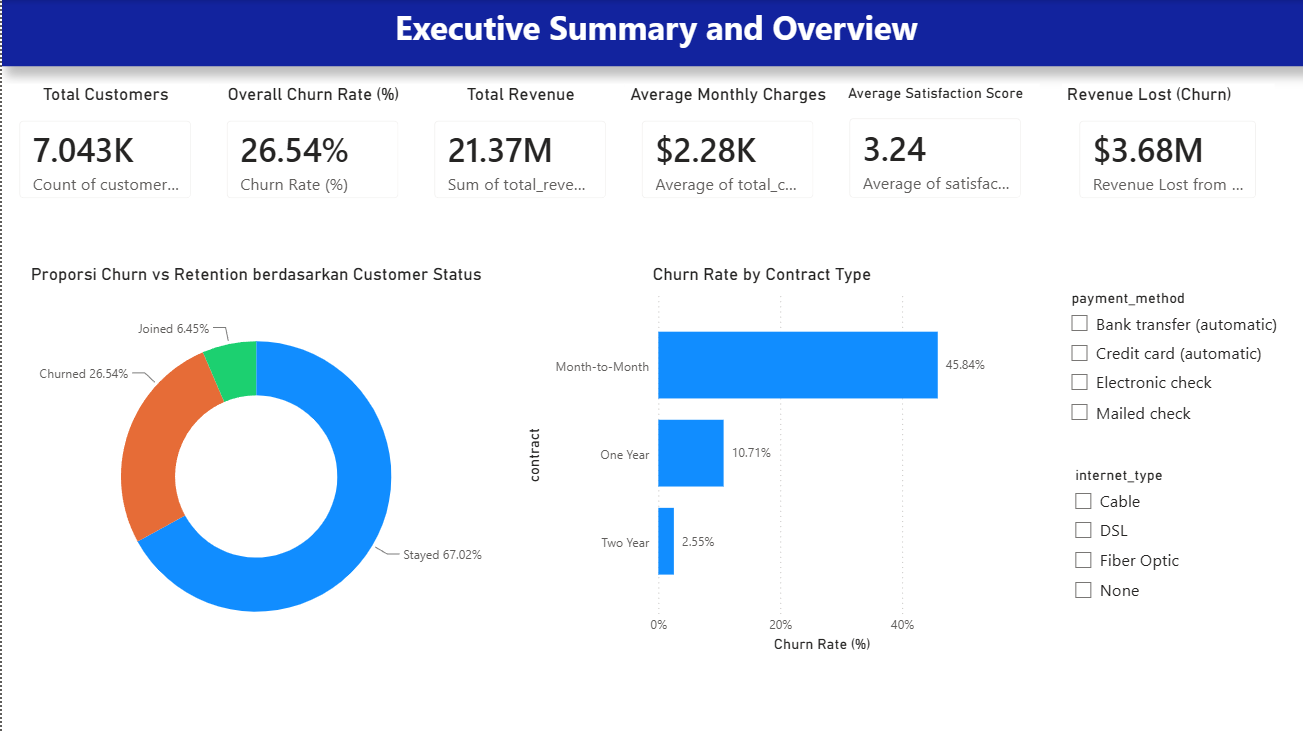

Layout of this report page (visuals, bound fields, positions):
{"tool":"powerbi","page":{"name":"Executive Summary and Overview","canvas":[1280,720],"ordinal":0},"visuals":[{"type":"textbox","box":[0,0,1280.3,64.5],"z":0},{"type":"cardVisual","title":"Total Customers","fields":{"Data":["Count(telco_churn_cleaned_master.customer_id)"]},"box":[0,81.9,203,129.6],"z":1000},{"type":"cardVisual","title":"Overall Churn Rate (%)","fields":{"Data":["telco_churn_cleaned_master.Churn Rate (%)"]},"box":[203,81.9,203,129.6],"z":2000},{"type":"cardVisual","title":"Total Revenue","fields":{"Data":["Sum(telco_churn_cleaned_master.total_revenue)"]},"box":[406,81.9,203,129.6],"z":3000},{"type":"cardVisual","title":"Average Monthly Charges","fields":{"Data":["Avg(telco_churn_cleaned_master.total_charges)"]},"box":[609,81.9,203,129.6],"z":4000},{"type":"cardVisual","title":"Average Satisfaction Score","fields":{"Data":["Avg(telco_churn_cleaned_master.satisfaction_score)"]},"box":[812,81.9,203,129.6],"z":5000},{"type":"donutChart","title":"Proporsi Churn vs Retention berdasarkan Customer Status","fields":{"Category":["telco_churn_cleaned_master.customer_status"],"Y":["CountNonNull(telco_churn_with_rfm.customer_id)"]},"box":[0,258,497.7,397.4],"z":6000},{"type":"barChart","title":"Churn Rate by Contract Type","fields":{"Category":["telco_churn_cleaned_master.contract"],"Y":["telco_churn_cleaned_master.Churn Rate (%)"]},"box":[507.5,258,472,385.2],"z":7000},{"type":"slicer","fields":{"Values":["telco_churn_cleaned_master.internet_type"]},"box":[1037,451.2,159,163.9],"z":8000},{"type":"slicer","fields":{"Values":["telco_churn_cleaned_master.payment_method"]},"box":[1033.3,277.6,247,163.9],"z":9000},{"type":"cardVisual","title":"Revenue Lost (Churn)","fields":{"Data":["telco_churn_cleaned_master.Revenue Lost from Churn"]},"box":[1037,81.9,207.9,129.6],"z":10000}]}

Visuals, with their boxes in screenshot pixels (x1, y1, x2, y2), scaled from the page's 1280x720 canvas onto the 1303x731 screenshot:
textbox: x1=0 y1=0 x2=1302 y2=65
"Total Customers" cardVisual: x1=0 y1=83 x2=207 y2=215
"Overall Churn Rate (%)" cardVisual: x1=207 y1=83 x2=413 y2=215
"Total Revenue" cardVisual: x1=413 y1=83 x2=620 y2=215
"Average Monthly Charges" cardVisual: x1=620 y1=83 x2=827 y2=215
"Average Satisfaction Score" cardVisual: x1=827 y1=83 x2=1033 y2=215
"Proporsi Churn vs Retention berdasarkan Customer Status" donutChart: x1=0 y1=262 x2=507 y2=665
"Churn Rate by Contract Type" barChart: x1=517 y1=262 x2=997 y2=653
slicer - telco_churn_cleaned_master.internet_type: x1=1056 y1=458 x2=1217 y2=624
slicer - telco_churn_cleaned_master.payment_method: x1=1052 y1=282 x2=1302 y2=448
"Revenue Lost (Churn)" cardVisual: x1=1056 y1=83 x2=1267 y2=215
